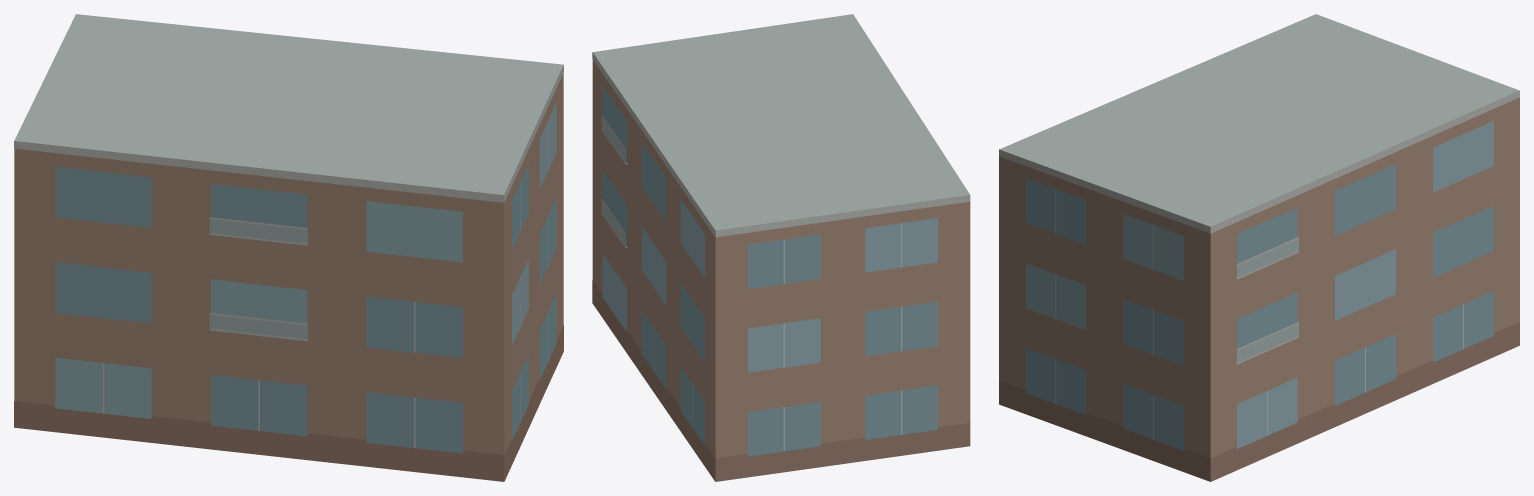
File: survey-upis-32937157.glb
3 views of the same model, side by side, from view 1: azimuth 30°, elevation 25°; view 2: azimuth 150°, elevation 25°; view 3: azimuth 270°, elevation 25° (orthographic). The views are drawn at different scales.
Parts seen in each view (by area): view 1: survey-upis-32937157.tmp; view 2: survey-upis-32937157.tmp; view 3: survey-upis-32937157.tmp.
Part boxes in pixels (left/top/right/bottom): survey-upis-32937157.tmp: left=14, top=14, right=563, bottom=481; survey-upis-32937157.tmp: left=592, top=14, right=970, bottom=481; survey-upis-32937157.tmp: left=999, top=14, right=1519, bottom=481.
Size of the model in its own units: 16.39 by 9.15 by 16.94.
